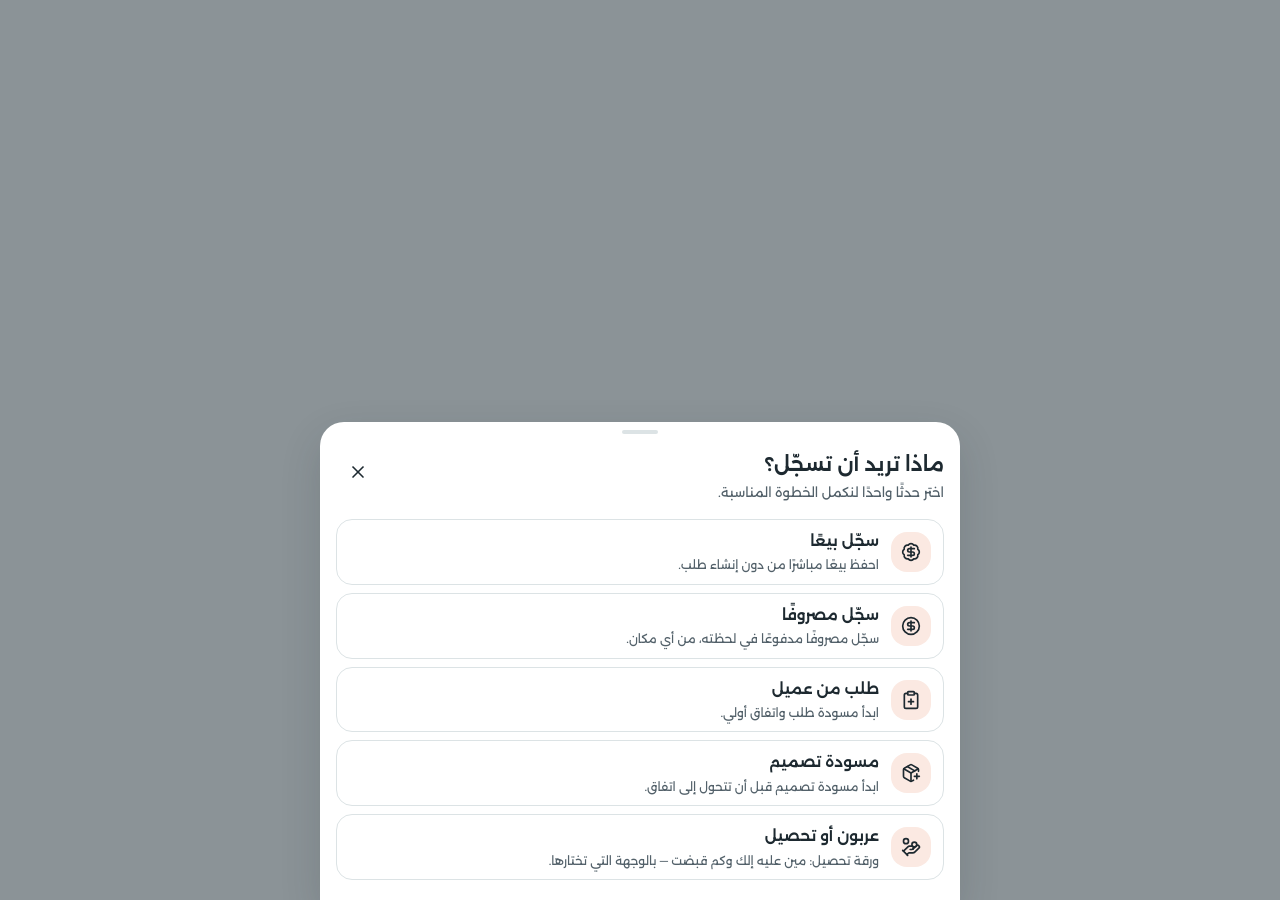
Test: Wave 4.3 — P-4.3-2: quick sheet safe Enter, editable date, corrected label › GAP-4.3-05: Enter with an empty amount does not record — validation first
Click the button "سجّل بيعًا احفظ بيعًا مباشرًا من دون إنشاء طلب.": (911, 551) [336,518,944,584]
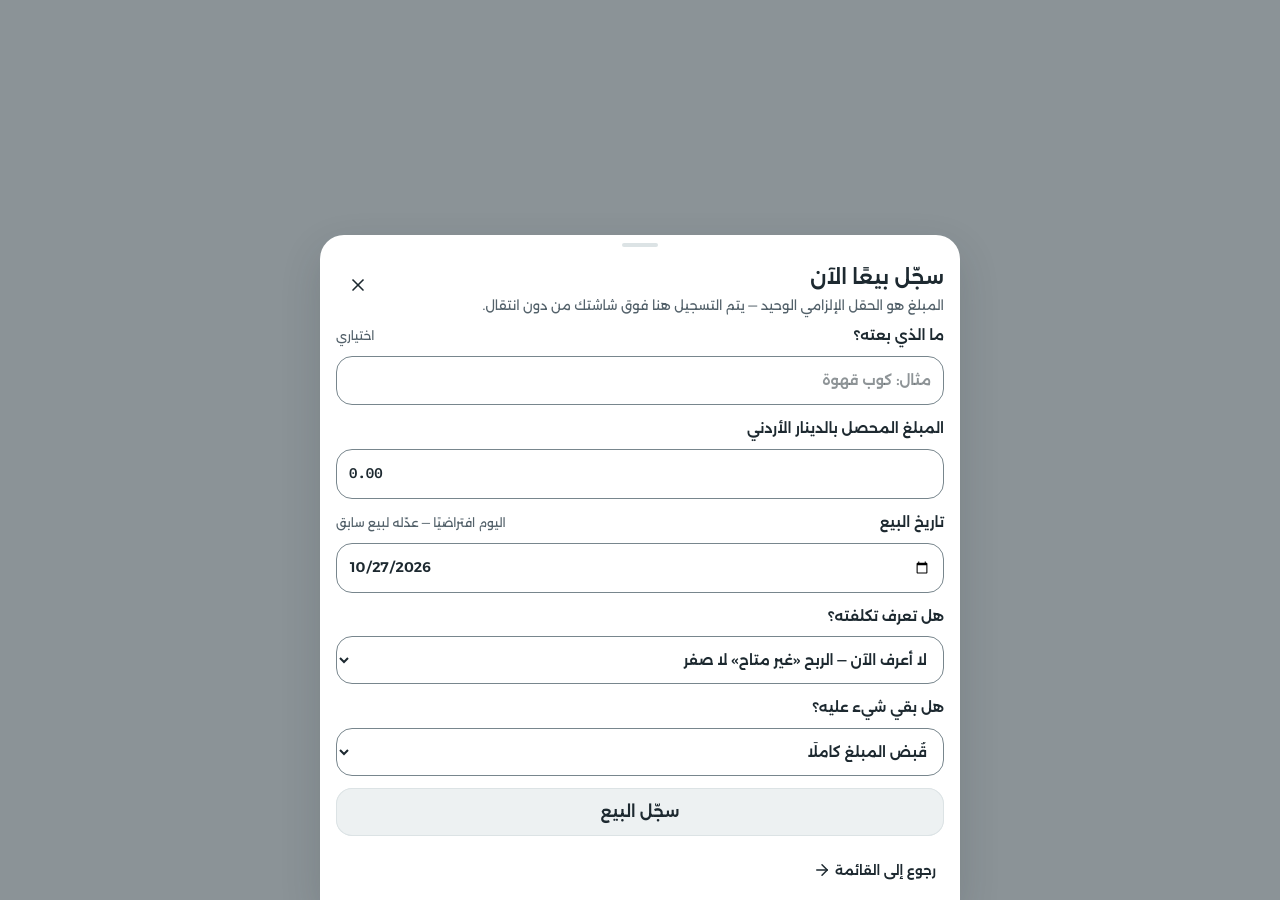
Now the field named "مبلغ البيع" is shown, box [336,449,944,499]
Submit the form named "مبلغ البيع", box [320,324,960,899]
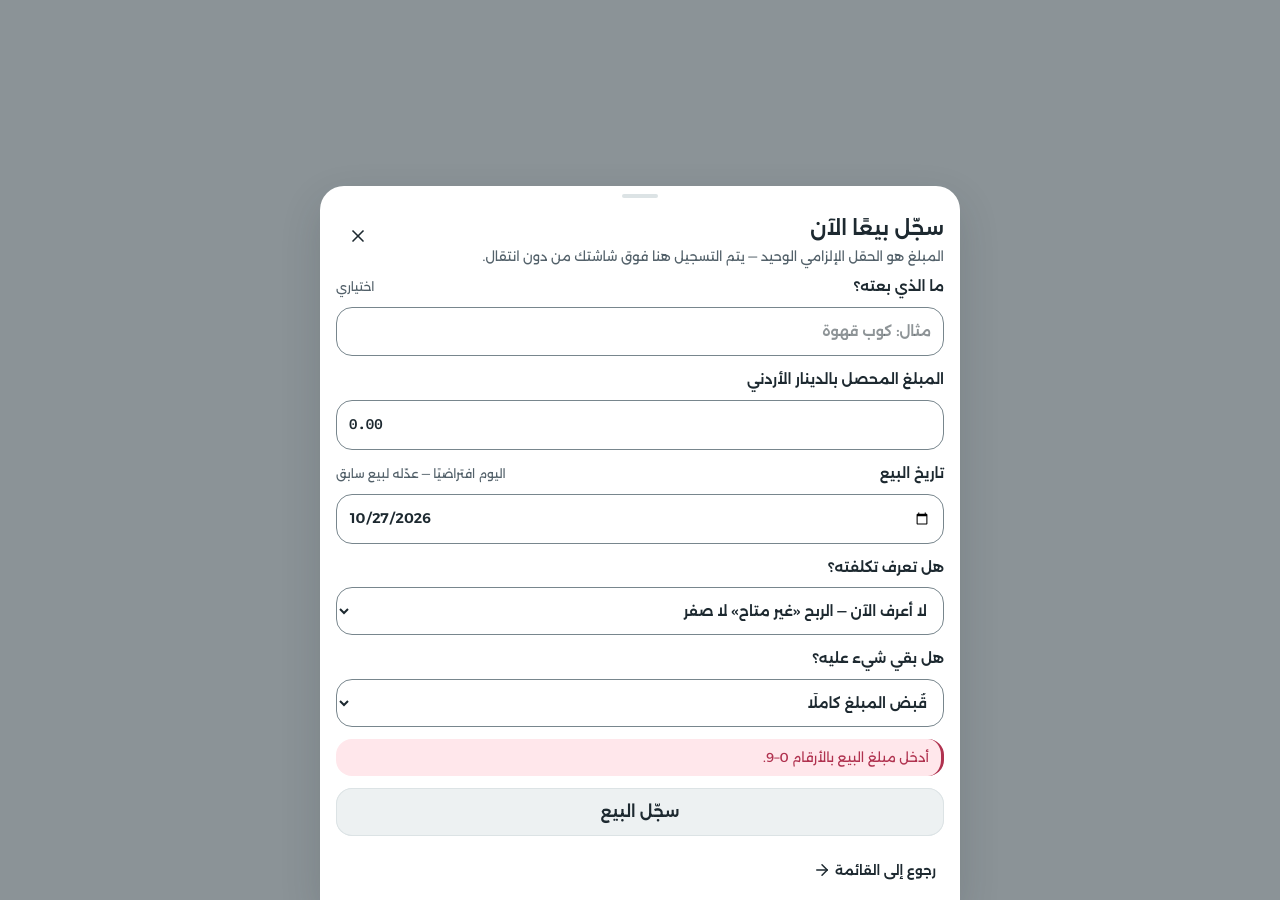
Now the message shows "أدخل مبلغ البيع", box [763,749,929,765]
